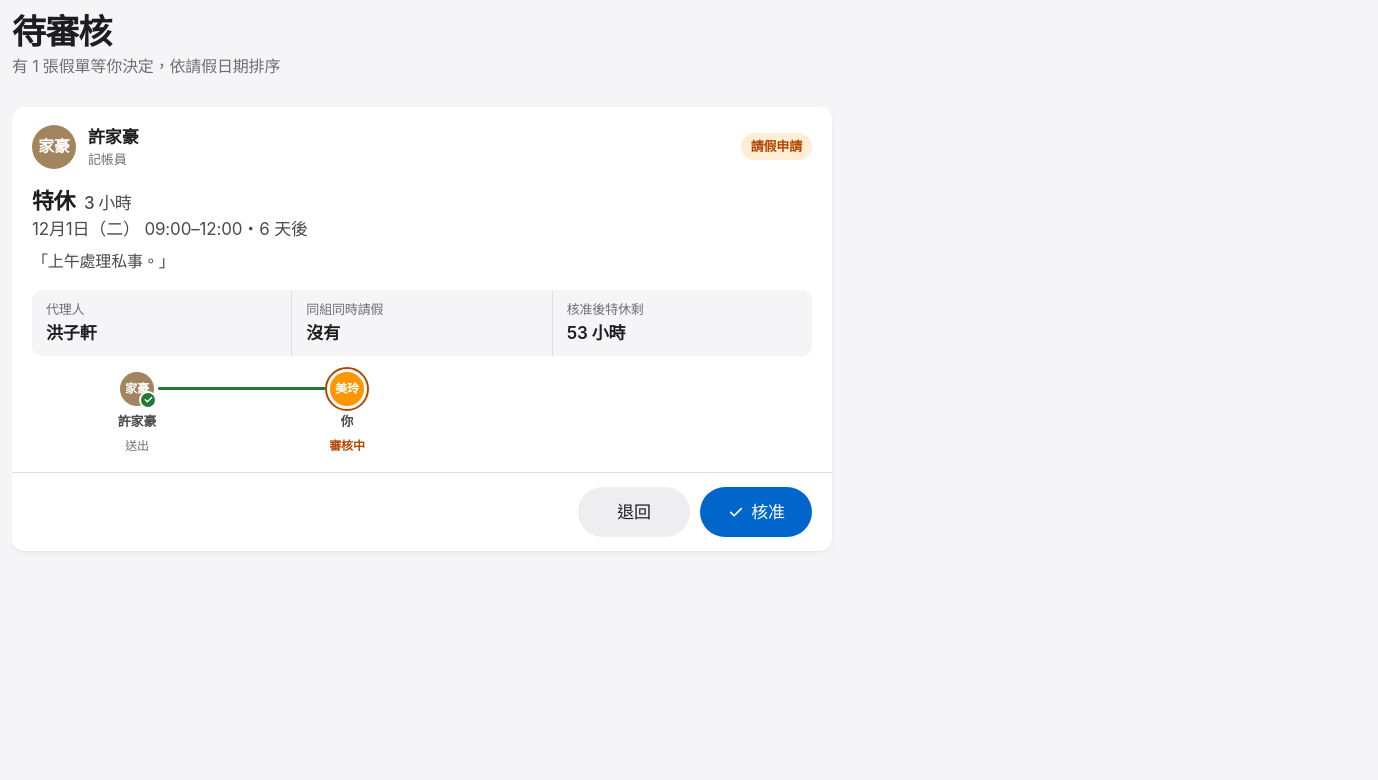
ApprovalsPage › shows an encouraging empty state when the queue is clear
Check: the heading "待審核" is shown, box [12,11,112,52]
What coordinates should you click on to do the following:
click the button "核准"
I would click on:
 (756, 512)
Its box is [700,487,812,537].
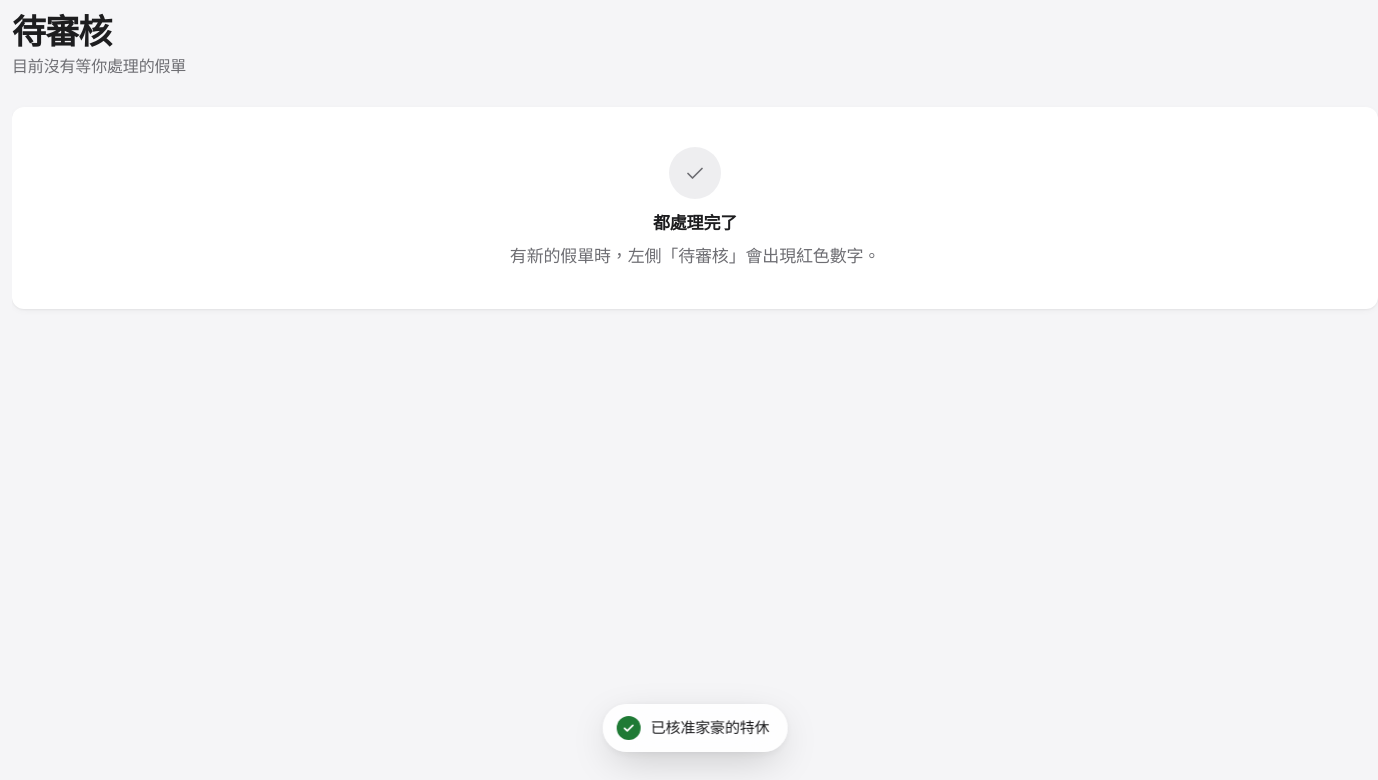
Check: the text "都處理完了" is shown, box [653,211,737,236]
